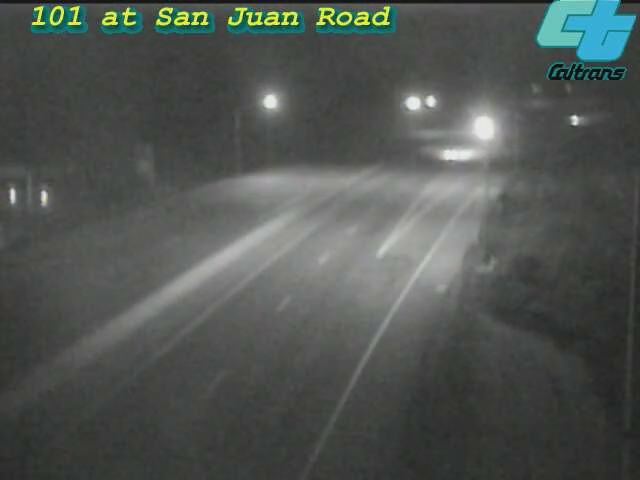vehicle: (548, 95, 598, 145), (458, 103, 508, 153), (433, 130, 483, 180)
